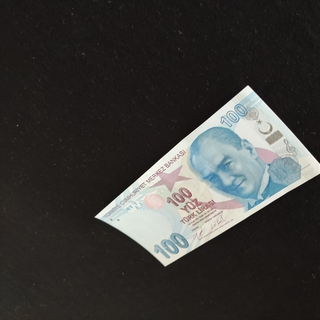100TLFront: (93, 84, 320, 267)
